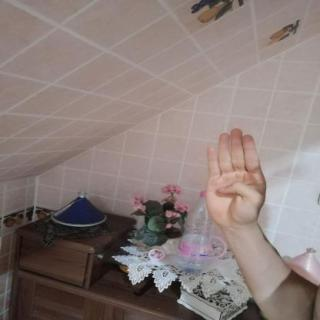KAAF: (192, 121, 276, 236)
